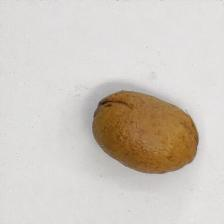NG: (90, 94, 135, 121)
